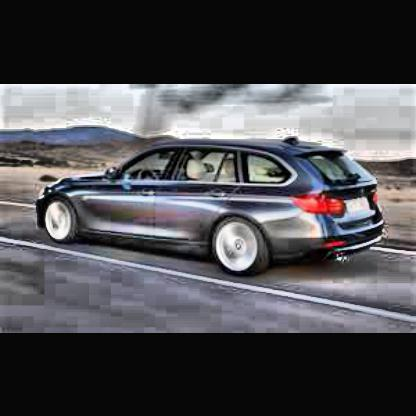BMW 3 Series Wagon 2012: (39, 140, 388, 281)
